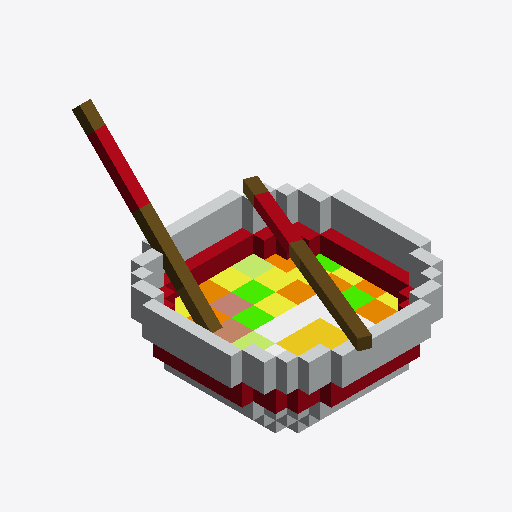
A Minecraft block model of 66 cuboids, rendered isometrically (azimuth 45°, elevation 35.3°) with the resource pack's own textures.
Visible parts, largest first — element 60, element 66, element 65, element 58, element 9, element 59, element 10, element 15, element 5, element 61, element 57, element 8 (+16 smaller).
Boxes of the visible parts, box(x1,y1,x2,y2) form: element 60: box(175, 254, 374, 355); element 66: box(72, 99, 222, 332); element 65: box(243, 176, 371, 350); element 58: box(142, 299, 241, 387); element 9: box(331, 299, 430, 387); element 59: box(331, 189, 430, 271); element 10: box(142, 190, 241, 272); element 15: box(320, 228, 408, 297); element 5: box(164, 228, 252, 297); element 61: box(265, 254, 397, 323); element 57: box(153, 344, 252, 407); element 8: box(320, 344, 419, 407).
Bounding box in the file's own units: 9 × 7.93 × 12.44.